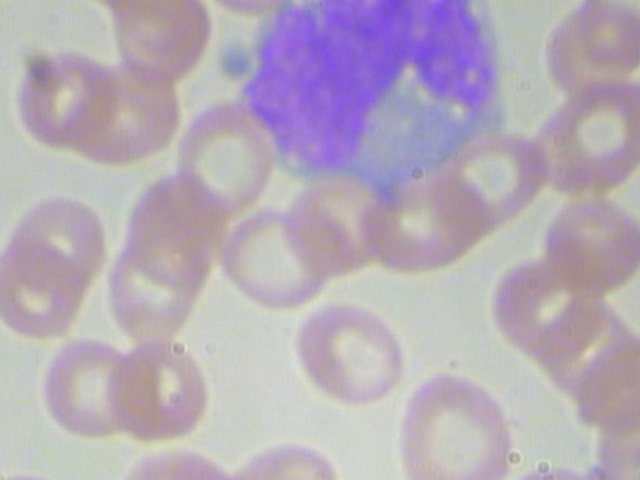RBC: (282, 293, 409, 406), (24, 332, 151, 445), (97, 335, 224, 448), (392, 367, 518, 480), (116, 171, 234, 288), (225, 202, 333, 314), (0, 183, 111, 287), (12, 47, 123, 151), (68, 62, 179, 166), (539, 183, 640, 294), (0, 230, 93, 346), (539, 0, 640, 95)
WBC: (248, 0, 511, 203)
